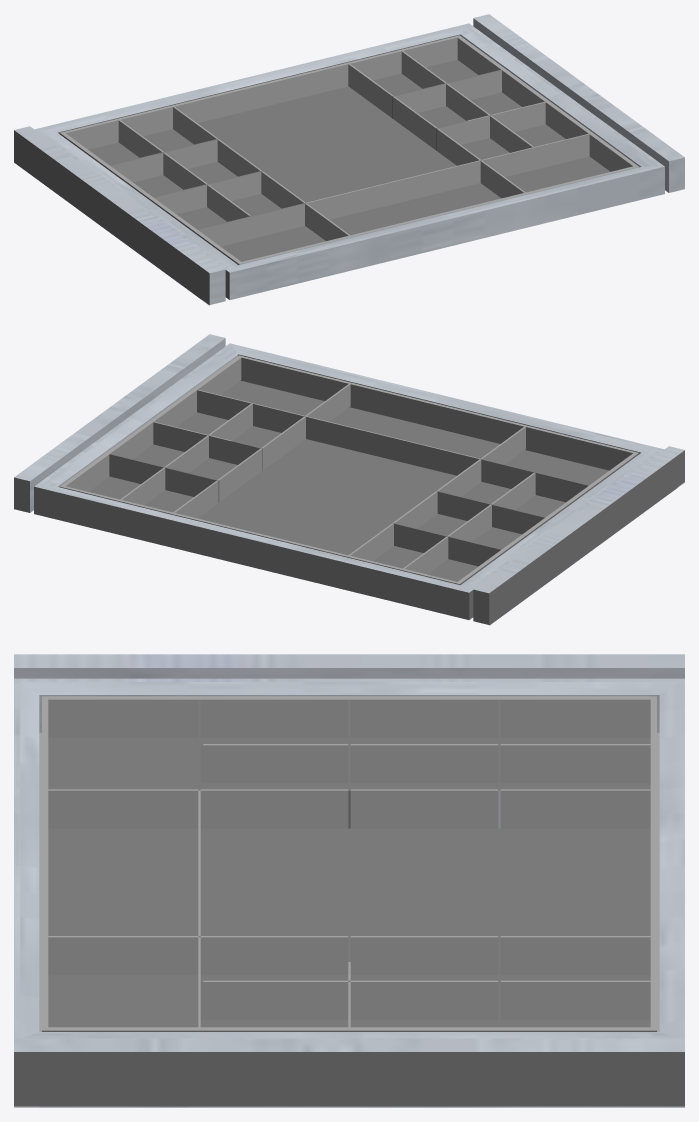
File: JP-drawer-underwear-a.glb
3 renders of one model, top to bottom at view 1: azimuth 30°, elevation 25°; view 2: azimuth 150°, elevation 25°; view 3: azimuth 270°, elevation 25°, orthographic. The views are drawn at different scales.
Visible parts, largest first — view 1: Geom3D (×3); view 2: Geom3D (×3); view 3: Geom3D (×3).
Part boxes in pixels (x1,y1,x2,y2): Geom3D (×3): (14,14,684,304); Geom3D (×3): (14,334,684,625); Geom3D (×3): (14,654,684,1107).
Bounding box in the file's own units: 0.6955 × 0.0454 × 0.4962.
Materials: 3 (1 with a texture image).
